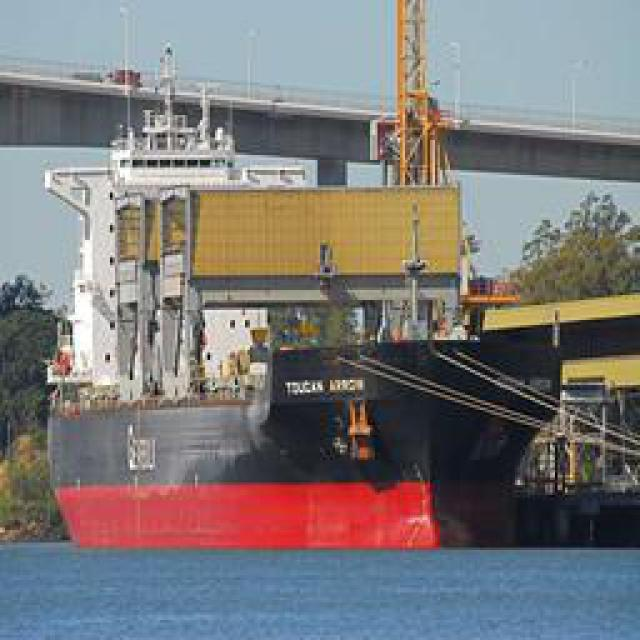Ship: (25, 62, 518, 562)
